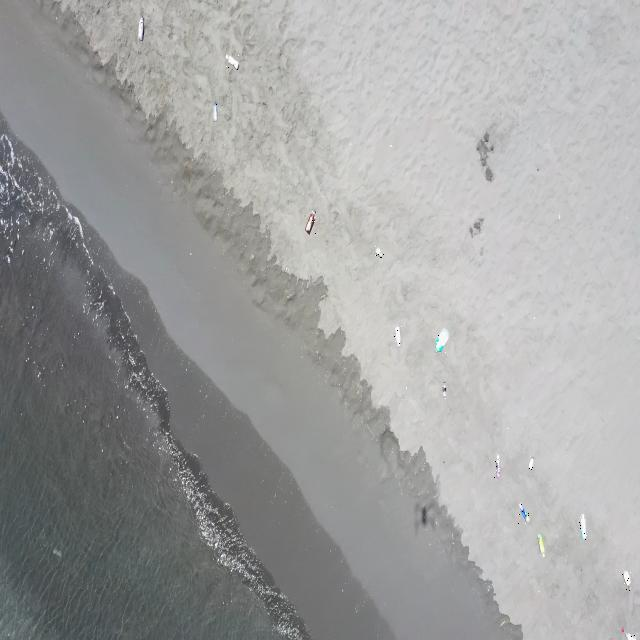Garbage: (415, 504, 433, 531), (435, 327, 447, 351), (304, 209, 315, 232), (224, 54, 238, 68), (620, 627, 635, 639), (519, 503, 528, 522), (537, 532, 544, 556), (622, 569, 630, 590), (580, 513, 586, 540), (420, 507, 427, 524), (138, 17, 143, 40), (495, 453, 500, 476), (440, 380, 446, 397), (395, 326, 400, 344), (375, 247, 383, 258), (52, 547, 60, 557), (624, 632, 635, 639), (212, 101, 216, 120), (527, 456, 532, 470)
